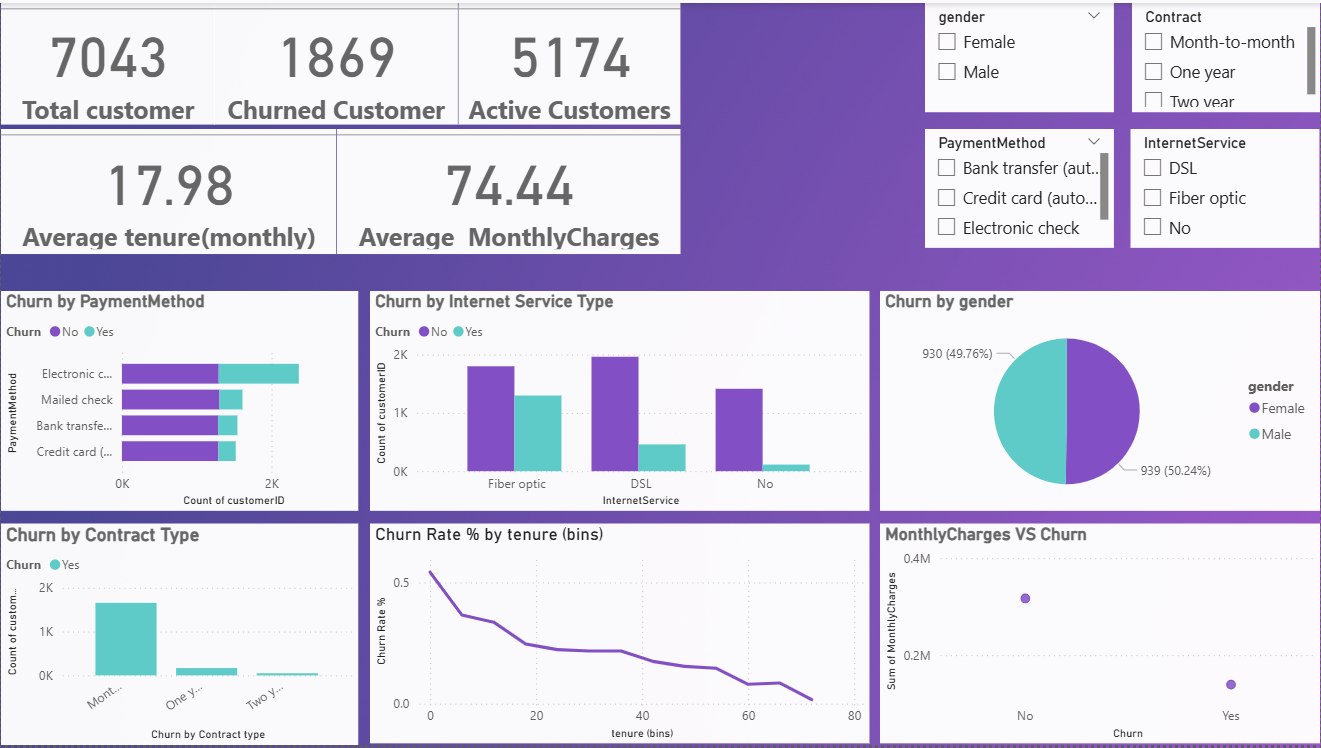

The dashboard page shown, as its layout file describes it:
{"tool":"powerbi","page":{"name":"Page 1","canvas":[1280,720],"ordinal":0},"visuals":[{"type":"card","fields":{"Values":["Count(Telco-Customer-Churn-Cleaned.customerID)"]},"box":[0,0,207.3,118.2],"z":0},{"type":"card","fields":{"Values":["CountNonNull(Telco-Customer-Churn-Cleaned.customerID)"]},"box":[207.3,0,236.4,118.2],"z":1000},{"type":"card","fields":{"Values":["Telco-Customer-Churn-Cleaned.Active Customers"]},"box":[443.7,0,215,118.1],"z":2000},{"type":"card","fields":{"Values":["Avg(Telco-Customer-Churn-Cleaned.MonthlyCharges)"]},"box":[325.6,122.7,333.1,121.1],"z":3000},{"type":"card","fields":{"Values":["Avg(Telco-Customer-Churn-Cleaned.tenure)"]},"box":[0,122.7,325.6,121.1],"z":4000},{"type":"clusteredColumnChart","title":"Churn by Contract Type","fields":{"Series":["Telco-Customer-Churn-Cleaned.Churn"],"Category":["Telco-Customer-Churn-Cleaned.Contract"],"Y":["CountNonNull(Telco-Customer-Churn-Cleaned.customerID)"]},"box":[0,505.7,346.8,215],"z":5000},{"type":"clusteredColumnChart","title":"Churn by Internet Service Type","fields":{"Category":["Telco-Customer-Churn-Cleaned.InternetService"],"Y":["CountNonNull(Telco-Customer-Churn-Cleaned.customerID)"],"Series":["Telco-Customer-Churn-Cleaned.Churn"]},"box":[357.4,280.1,484.5,213.5],"z":6000},{"type":"pieChart","title":"Churn by gender","fields":{"Category":["Telco-Customer-Churn-Cleaned.gender"],"Y":["CountNonNull(Telco-Customer-Churn-Cleaned.customerID)"]},"box":[852.5,280.1,427,213.5],"z":7000},{"type":"scatterChart","title":"MonthlyCharges VS Churn","fields":{"X":["Telco-Customer-Churn-Cleaned.Churn"],"Y":["Sum(Telco-Customer-Churn-Cleaned.MonthlyCharges)"]},"box":[852.5,505.7,427,213.5],"z":8000},{"type":"barChart","title":"Churn by PaymentMethod ","fields":{"Y":["CountNonNull(Telco-Customer-Churn-Cleaned.customerID)"],"Category":["Telco-Customer-Churn-Cleaned.PaymentMethod"],"Series":["Telco-Customer-Churn-Cleaned.Churn"]},"box":[0,280.1,346.8,213.5],"z":9000},{"type":"lineChart","fields":{"Category":["Telco-Customer-Churn-Cleaned.tenure (bins)"],"Y":["Telco-Customer-Churn-Cleaned.Churn Rate %"]},"box":[357.4,505.7,484.5,213.5],"z":10000},{"type":"slicer","fields":{"Values":["Telco-Customer-Churn-Cleaned.gender"]},"box":[896.4,0,183.2,106],"z":10005},{"type":"slicer","fields":{"Values":["Telco-Customer-Churn-Cleaned.PaymentMethod"]},"box":[896.4,122.7,183.2,115.1],"z":10006},{"type":"slicer","fields":{"Values":["Telco-Customer-Churn-Cleaned.InternetService"]},"box":[1096.3,122.7,183.2,115.1],"z":10007},{"type":"slicer","fields":{"Values":["Telco-Customer-Churn-Cleaned.Contract"]},"box":[1097.8,0,183.2,106],"z":10008}]}

Visuals, with their boxes in screenshot pixels (x1, y1, x2, y2), scaled from the page's 1280x720 canvas onto the 1321x748 screenshot:
card - Count(Telco-Customer-Churn-Cleaned.customerID): (0, 0, 214, 123)
card - CountNonNull(Telco-Customer-Churn-Cleaned.customerID): (214, 0, 458, 123)
card - Telco-Customer-Churn-Cleaned.Active Customers: (458, 0, 680, 123)
card - Avg(Telco-Customer-Churn-Cleaned.MonthlyCharges): (336, 127, 680, 253)
card - Avg(Telco-Customer-Churn-Cleaned.tenure): (0, 127, 336, 253)
"Churn by Contract Type" clusteredColumnChart: (0, 525, 358, 747)
"Churn by Internet Service Type" clusteredColumnChart: (369, 291, 869, 513)
"Churn by gender" pieChart: (880, 291, 1320, 513)
"MonthlyCharges VS Churn" scatterChart: (880, 525, 1320, 747)
"Churn by PaymentMethod " barChart: (0, 291, 358, 513)
lineChart - Telco-Customer-Churn-Cleaned.tenure (bins) x Telco-Customer-Churn-Cleaned.Churn Rate %: (369, 525, 869, 747)
slicer - Telco-Customer-Churn-Cleaned.gender: (925, 0, 1114, 110)
slicer - Telco-Customer-Churn-Cleaned.PaymentMethod: (925, 127, 1114, 247)
slicer - Telco-Customer-Churn-Cleaned.InternetService: (1131, 127, 1320, 247)
slicer - Telco-Customer-Churn-Cleaned.Contract: (1133, 0, 1320, 110)
